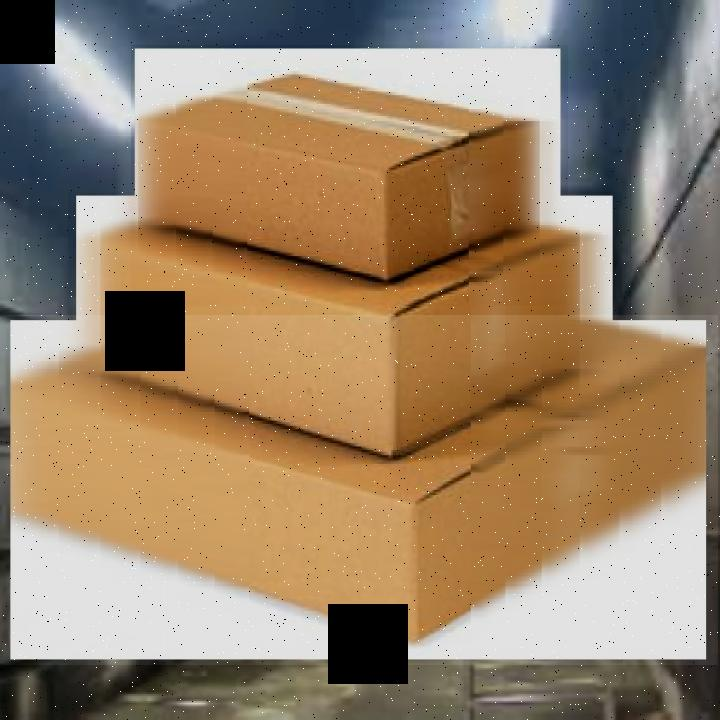box: (0, 315, 718, 665), (68, 192, 622, 459), (132, 45, 570, 306)
